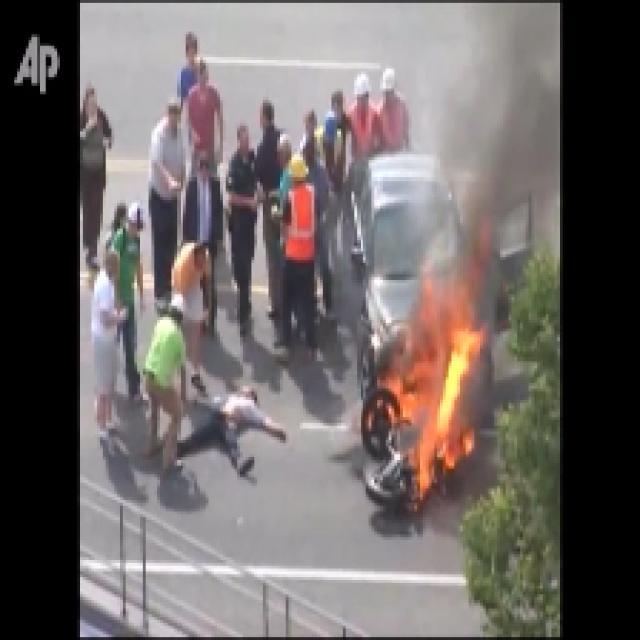Fire: (370, 284, 485, 514)
Smoke: (433, 1, 560, 321)
